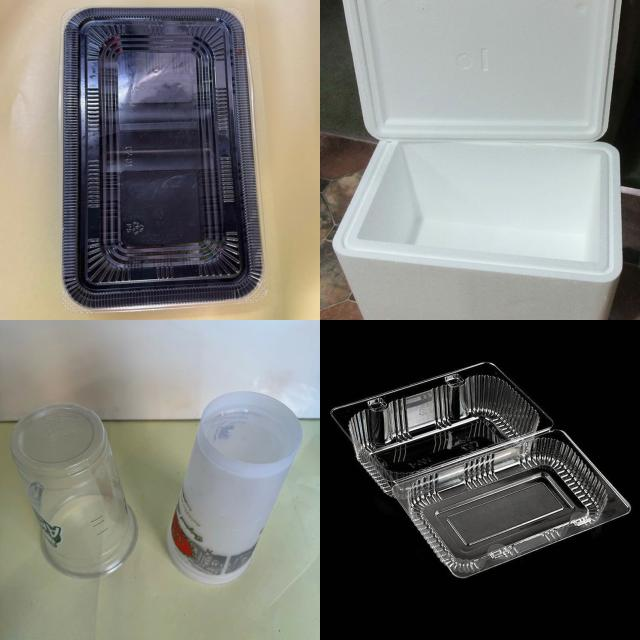Single-Use-Plastic: (331, 362, 630, 578), (61, 8, 264, 309), (334, 141, 622, 319), (344, 0, 621, 141), (168, 392, 302, 584), (10, 404, 138, 579)
